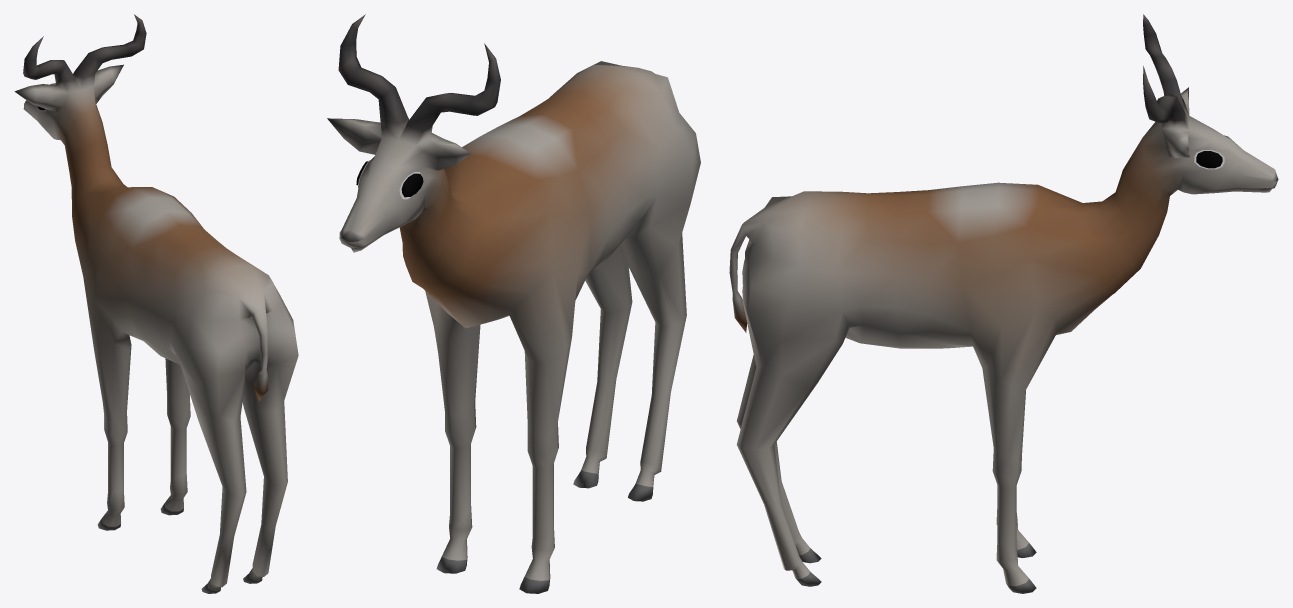
Rendered from ArabianGazelle.min.glb.
The picture shows the model from 3 angles, left to right: view 1: azimuth 30°, elevation 25°; view 2: azimuth 150°, elevation 25°; view 3: azimuth 270°, elevation 25°; orthographic projection. The views are drawn at different scales.
Parts seen in each view (by area): view 1: ArabianGazelle; view 2: ArabianGazelle; view 3: ArabianGazelle.
Boxes of the visible parts, x1,y1,x2,y2 form: ArabianGazelle: [14, 14, 298, 593]; ArabianGazelle: [327, 14, 700, 593]; ArabianGazelle: [729, 14, 1278, 593].
Bounding box in the file's own units: 0.4949 × 1.79 × 1.68.
